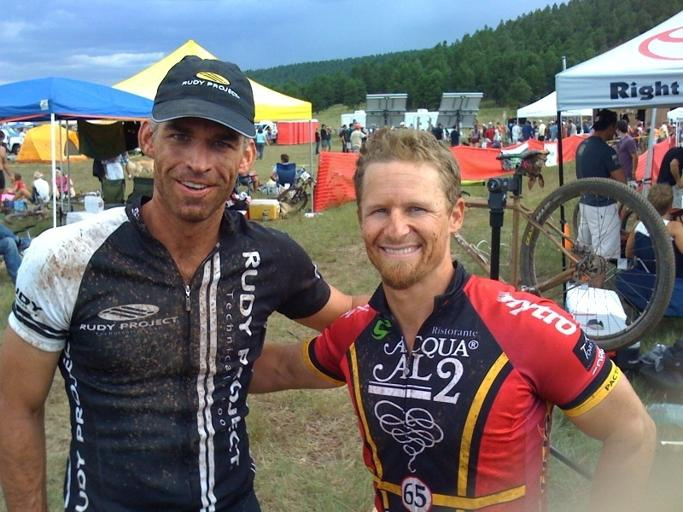non-vehicle: (450, 136, 676, 356), (275, 166, 317, 215)
